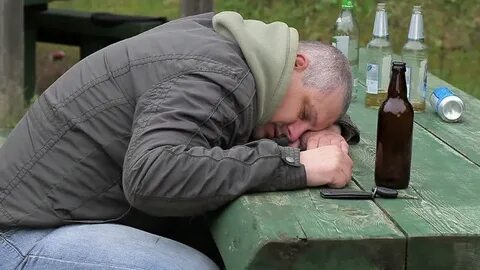sleep: (1, 11, 357, 229)
